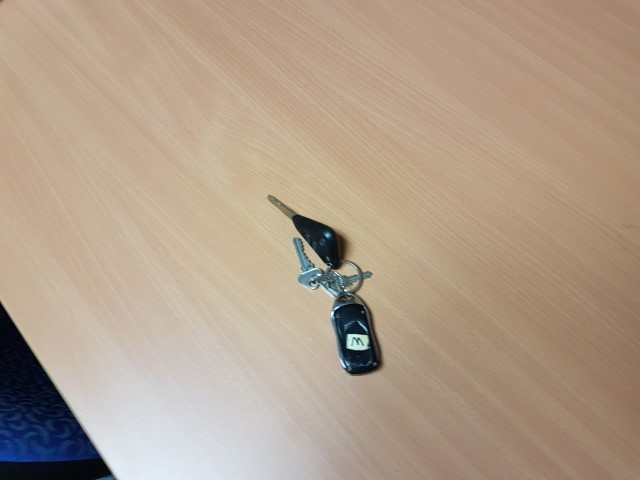key: (265, 193, 343, 267)
